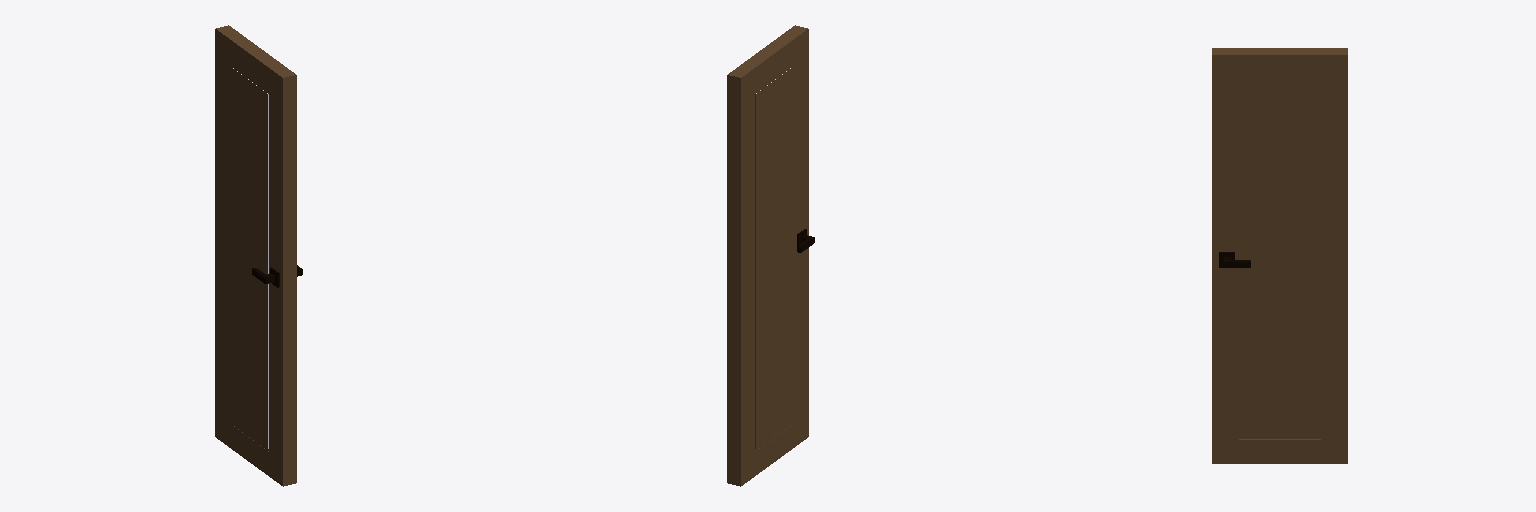
Rendered from door603_brown.obj.
3 views of the same model, side by side, from view 1: azimuth 30°, elevation 25°; view 2: azimuth 150°, elevation 25°; view 3: azimuth 270°, elevation 25° (orthographic).
Parts seen in each view (by area): view 1: Cube; view 2: Cube; view 3: Cube.
Boxes of the visible parts, <box> form: Cube: <box>215,25,302,486</box>; Cube: <box>727,25,814,486</box>; Cube: <box>1212,48,1347,463</box>.
Size of the model in its own units: 0.1899 by 2 by 0.5999.